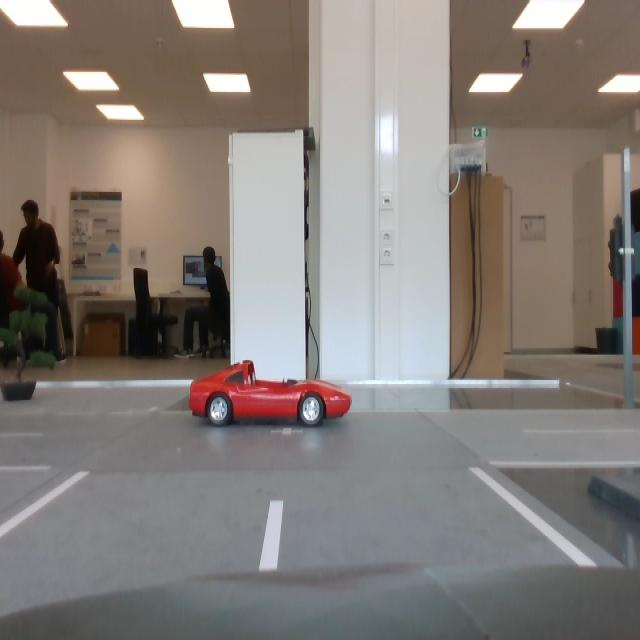car: (189, 360, 353, 428)
potted plant: (1, 285, 58, 401)
traffic light: (608, 214, 624, 283)
